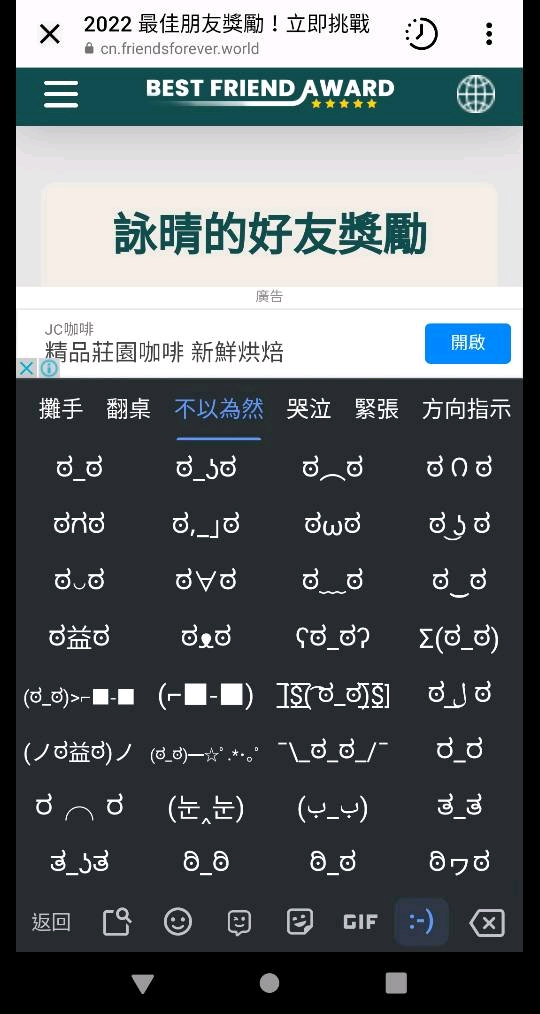external_close: (32, 19, 65, 52)
external_info: (395, 12, 506, 58)
